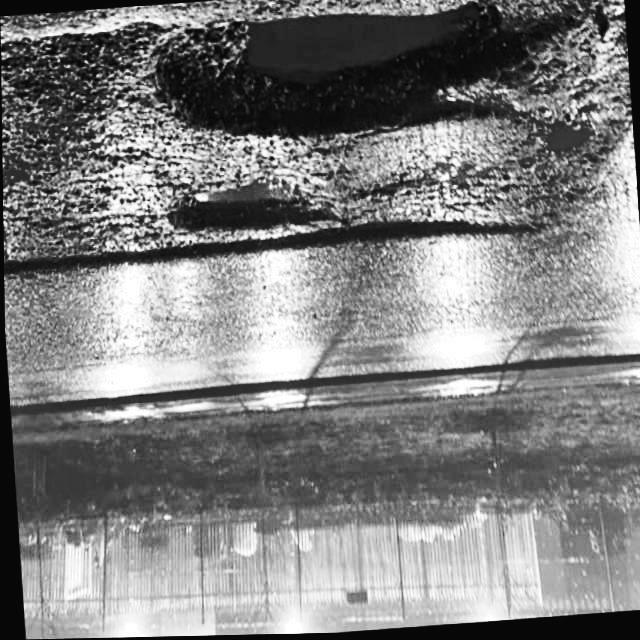Pothole: (154, 0, 529, 164), (165, 173, 334, 255), (551, 113, 600, 173)
